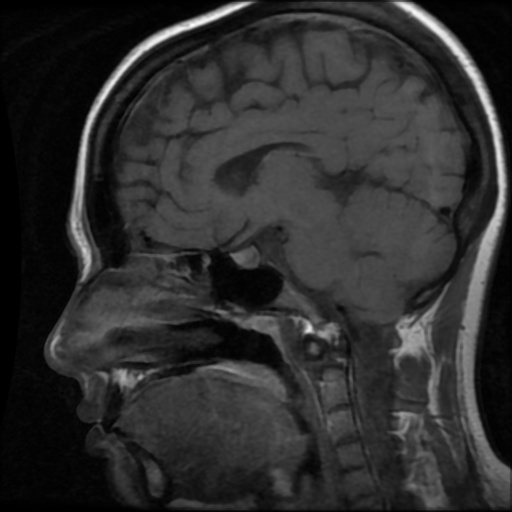pituitary: (229, 247, 261, 268)
